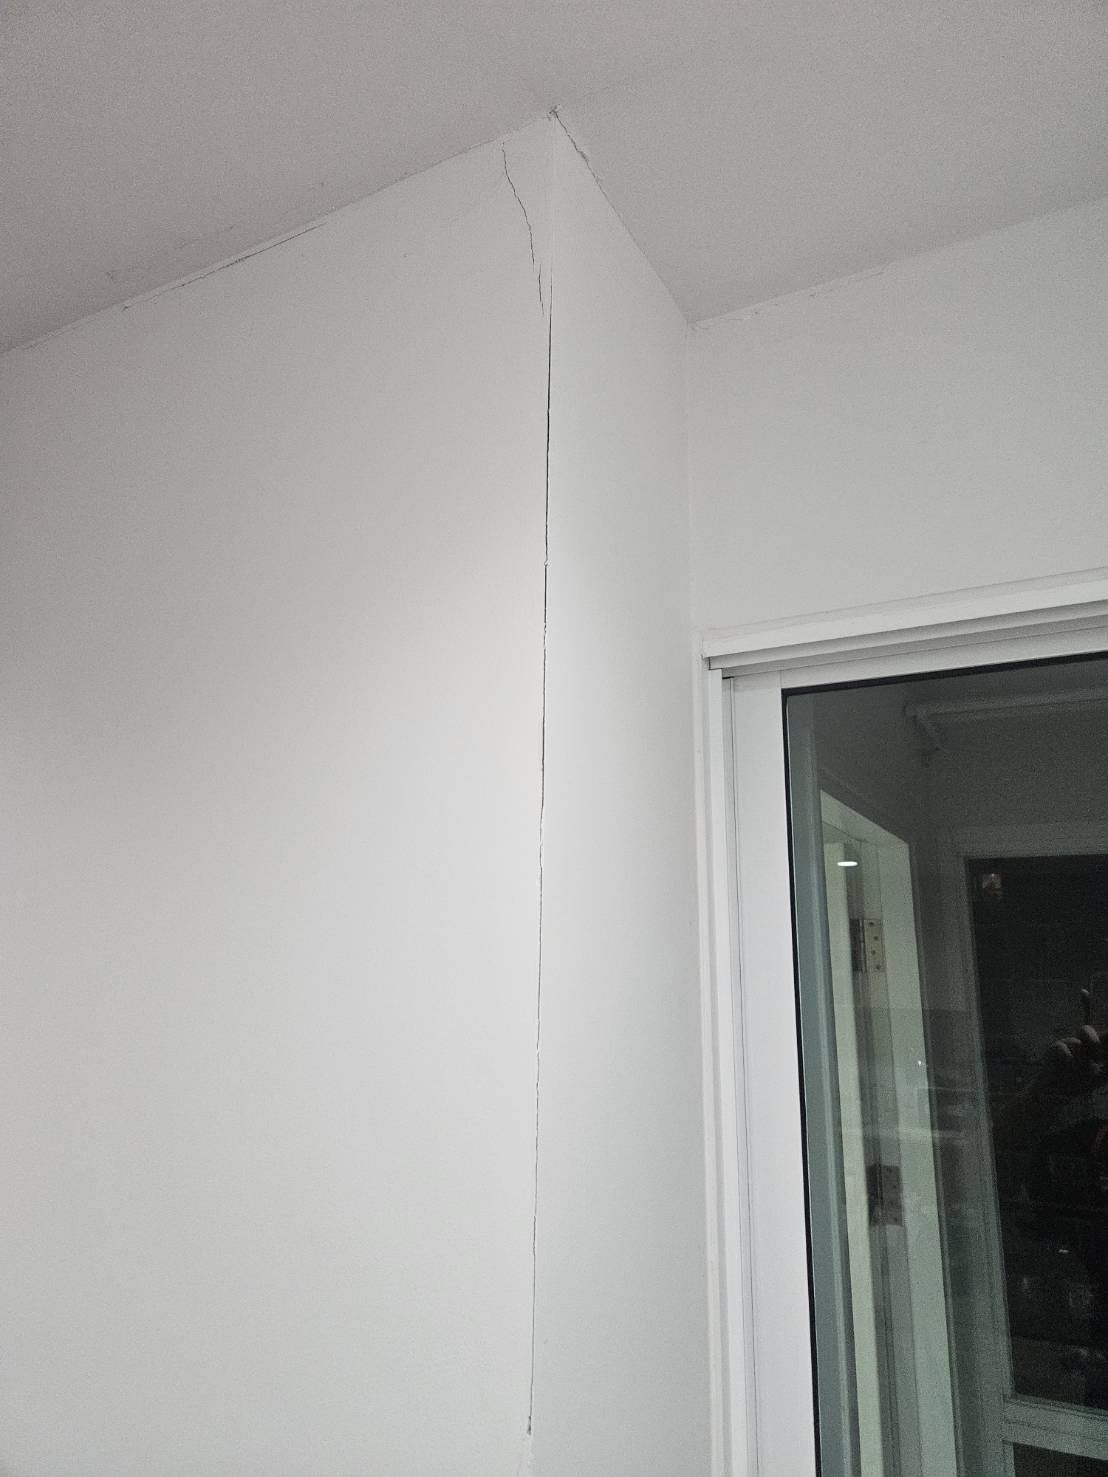Low: (473, 150, 557, 1477)
